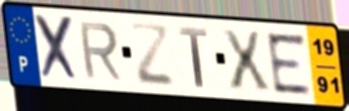E: (263, 31, 314, 96)
R: (76, 21, 124, 83)
T: (177, 25, 209, 90)
X: (219, 27, 273, 93), (33, 12, 82, 84)
Z: (128, 20, 176, 89)
